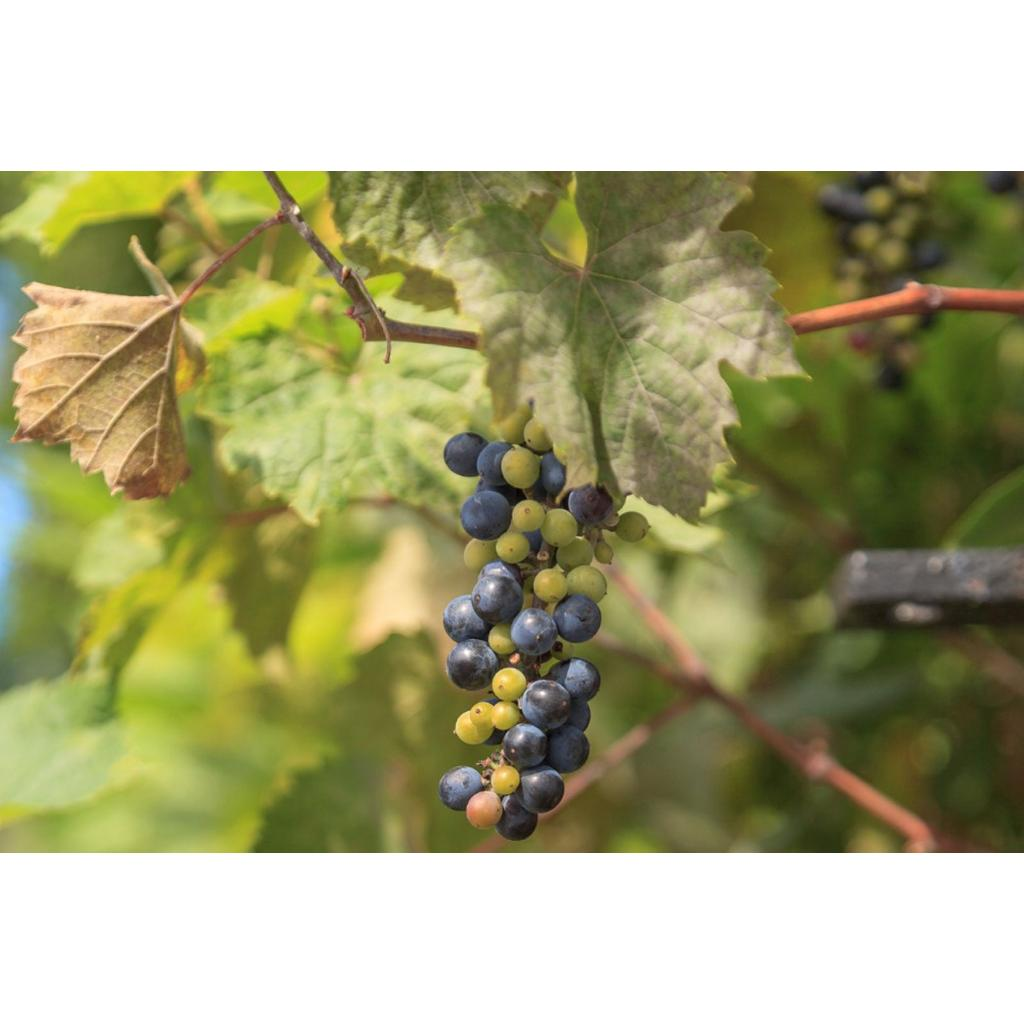grape: (438, 405, 648, 840)
